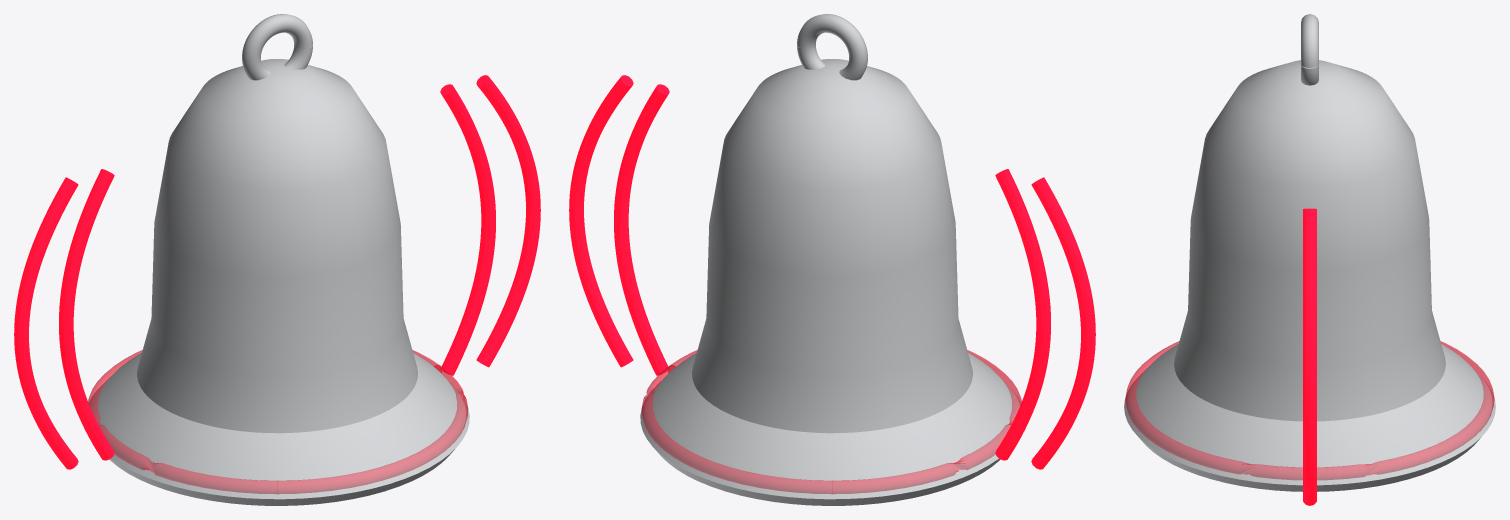
The model's file is 40-alert.glb.
The picture shows the model from 3 angles, left to right: view 1: azimuth 30°, elevation 25°; view 2: azimuth 150°, elevation 25°; view 3: azimuth 270°, elevation 25°; orthographic projection. The views are drawn at different scales.
Parts seen in each view (by area): view 1: BC satin iron, BC internal ruby light, BC ruby optical glass; view 2: BC satin iron, BC internal ruby light, BC ruby optical glass; view 3: BC satin iron, BC ruby optical glass, BC internal ruby light.
Boxes of the visible parts, bbox=[...] form: BC satin iron: bbox=[89, 14, 469, 505]; BC internal ruby light: bbox=[14, 75, 540, 469]; BC ruby optical glass: bbox=[88, 350, 468, 494]; BC satin iron: bbox=[640, 14, 1020, 505]; BC internal ruby light: bbox=[569, 75, 1095, 469]; BC ruby optical glass: bbox=[641, 350, 1021, 494]; BC satin iron: bbox=[1124, 14, 1495, 491]; BC ruby optical glass: bbox=[1125, 341, 1494, 479]; BC internal ruby light: bbox=[1303, 208, 1316, 505].
Bounding box in the file's own units: 2.11 × 1.78 × 1.34.
